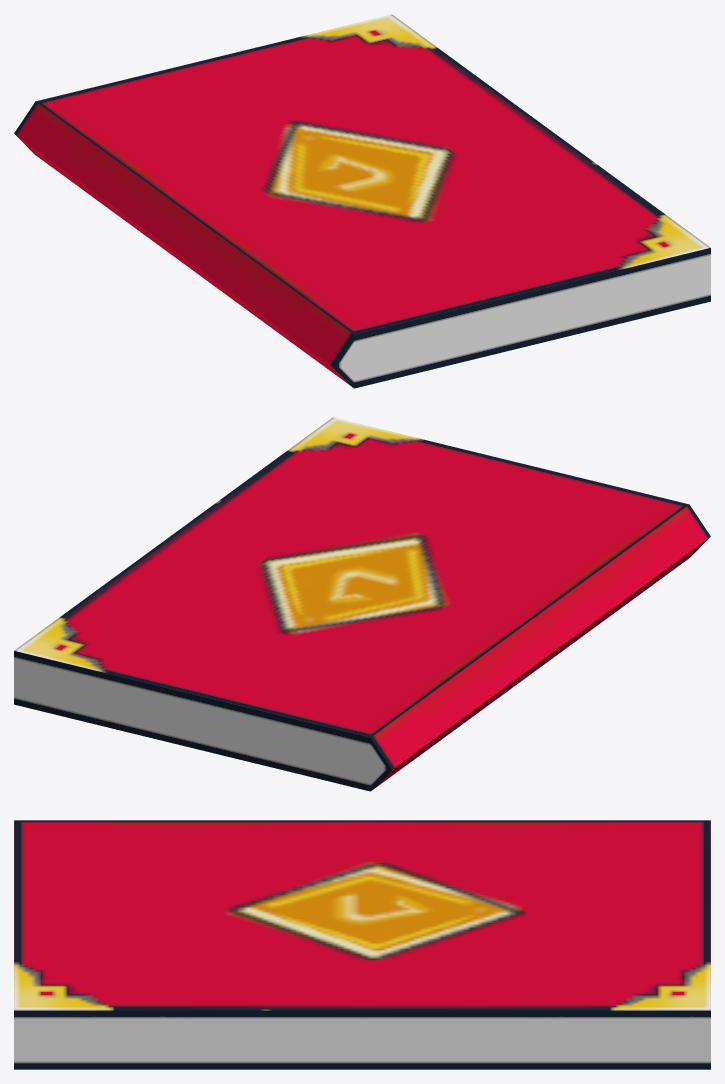
Rendered from book2.FBX.
The picture shows the model from 3 angles, top to bottom: view 1: azimuth 30°, elevation 25°; view 2: azimuth 150°, elevation 25°; view 3: azimuth 270°, elevation 25°; orthographic projection. The views are drawn at different scales.
Visible parts, largest first — view 1: Box027; view 2: Box027; view 3: Box027.
Boxes of the visible parts, x1,y1,x2,y2 form: Box027: (14,14,710,388); Box027: (14,417,710,791); Box027: (14,820,710,1069).
Bounding box in the file's own units: 40.82 × 5.55 × 59.61.
Materials: 1 (1 with a texture image).
